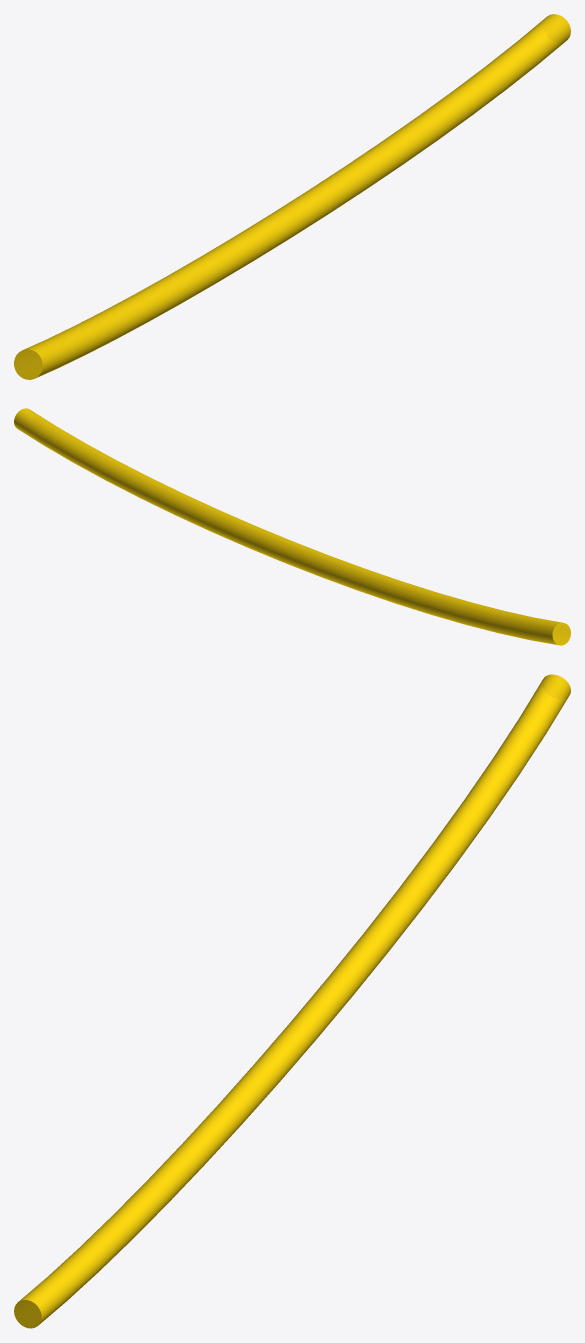
File: Event_421115418_track_90.fbx
3 renders of one model, top to bottom at view 1: azimuth 90°, elevation 25°; view 2: azimuth 150°, elevation 25°; view 3: azimuth 270°, elevation 25°, orthographic. The views are drawn at different scales.
Visible parts, largest first — view 1: Model; view 2: Model; view 3: Model.
Boxes of the visible parts, <box> form: Model: <box>14,14,570,379</box>; Model: <box>14,408,570,645</box>; Model: <box>14,674,570,1328</box>.
Bounding box in the file's own units: 1.48 × 0.2459 × 0.716.
